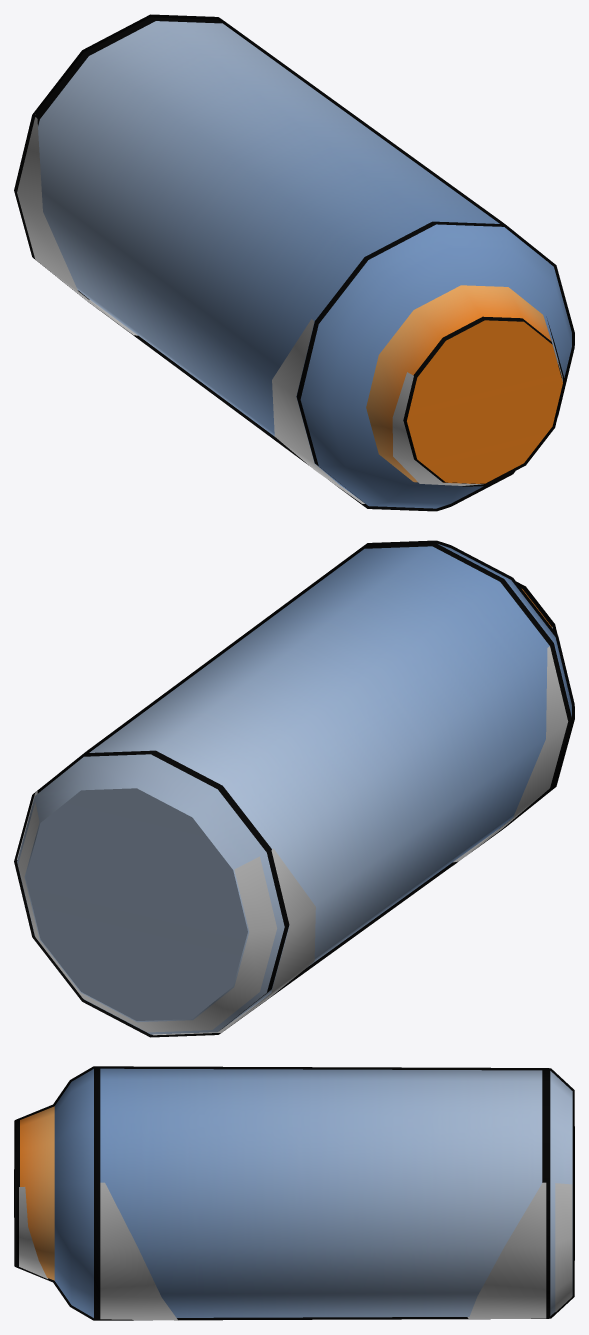
The model's file is Rooms_Paradise_SciFi_Battery_Capsule02_Art.fbx.
3 views of the same model, one above another, from view 1: azimuth 30°, elevation 25°; view 2: azimuth 150°, elevation 25°; view 3: azimuth 270°, elevation 25° (orthographic). The views are drawn at different scales.
Parts seen in each view (by area): view 1: Rooms_Paradise_SciFi_Battery_Capsule02_Art, Rooms_Paradise_SciFi_Battery_Capsule02_Shadows, Rooms_Paradise_SciFi_Battery_Capsule02_Outliner; view 2: Rooms_Paradise_SciFi_Battery_Capsule02_Art, Rooms_Paradise_SciFi_Battery_Capsule02_Shadows, Rooms_Paradise_SciFi_Battery_Capsule02_Outliner; view 3: Rooms_Paradise_SciFi_Battery_Capsule02_Art, Rooms_Paradise_SciFi_Battery_Capsule02_Shadows, Rooms_Paradise_SciFi_Battery_Capsule02_Outliner.
Boxes of the visible parts, <box> form: Rooms_Paradise_SciFi_Battery_Capsule02_Art: <box>17,17,571,508</box>; Rooms_Paradise_SciFi_Battery_Capsule02_Shadows: <box>17,114,562,503</box>; Rooms_Paradise_SciFi_Battery_Capsule02_Outliner: <box>14,14,574,511</box>; Rooms_Paradise_SciFi_Battery_Capsule02_Art: <box>17,543,571,1034</box>; Rooms_Paradise_SciFi_Battery_Capsule02_Shadows: <box>17,627,568,1035</box>; Rooms_Paradise_SciFi_Battery_Capsule02_Outliner: <box>14,540,574,1037</box>; Rooms_Paradise_SciFi_Battery_Capsule02_Art: <box>16,1068,572,1318</box>; Rooms_Paradise_SciFi_Battery_Capsule02_Shadows: <box>19,1182,572,1320</box>; Rooms_Paradise_SciFi_Battery_Capsule02_Outliner: <box>14,1066,574,1320</box>.
Bounding box in the file's own units: 43.33 × 43.33 × 95.24.
